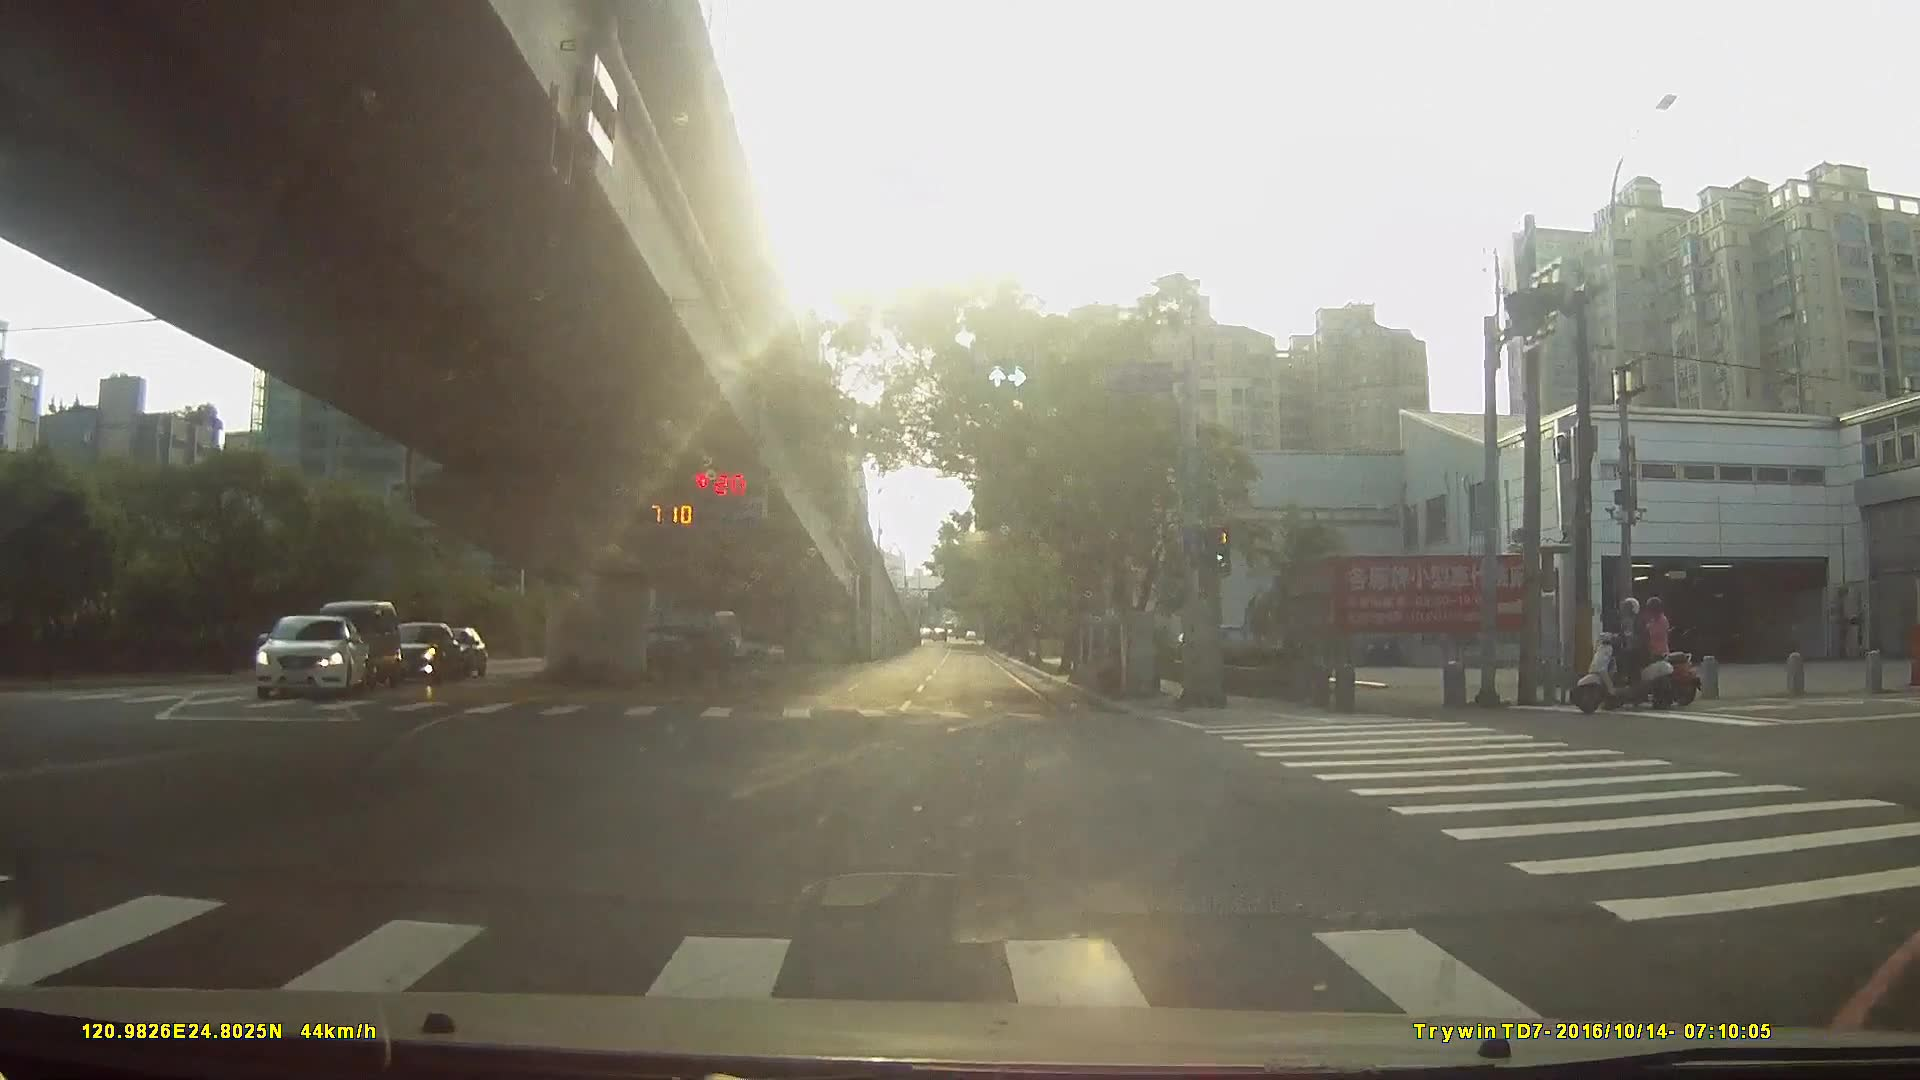rider: (1570, 596, 1682, 713)
vehicle: (242, 613, 362, 700), (306, 599, 392, 692), (611, 622, 738, 683), (373, 619, 461, 684)
